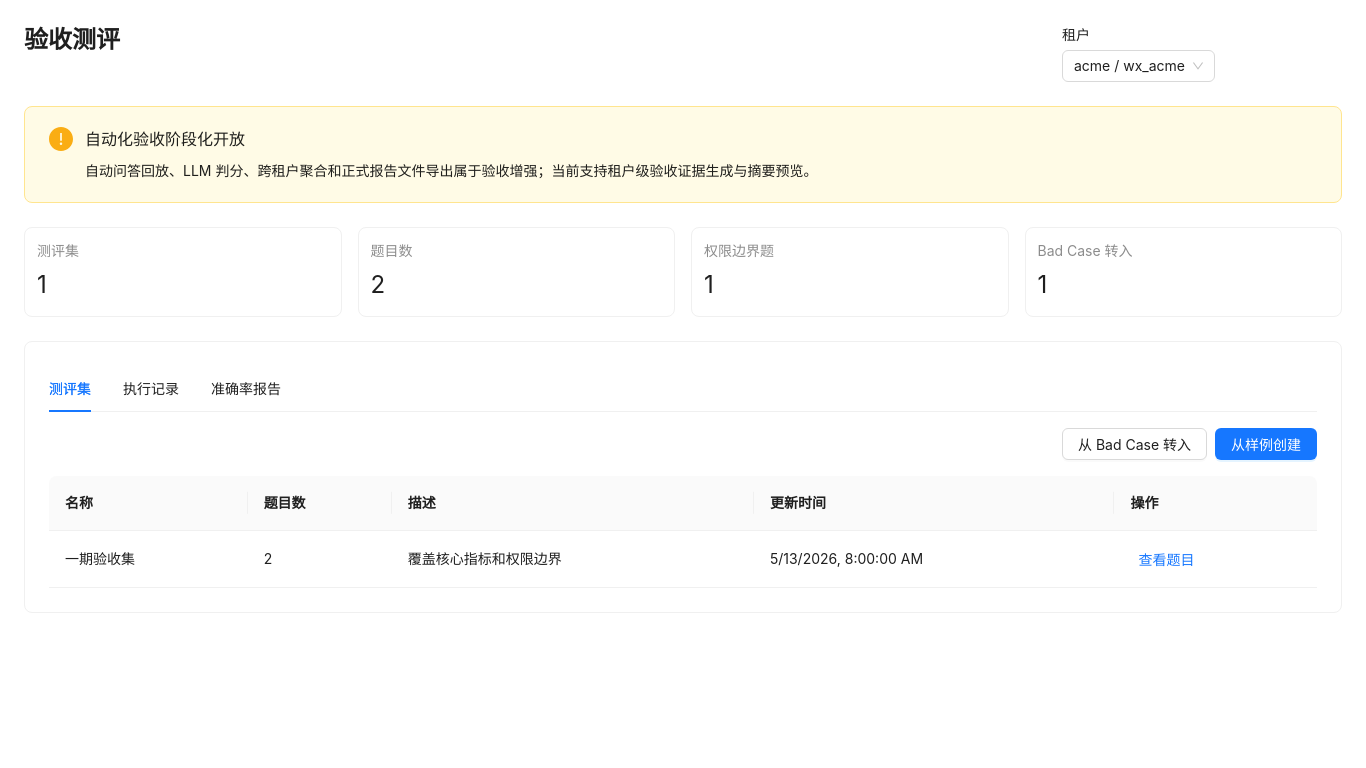
EvaluationPage › loads and renders accuracy report
The width and height of the screenshot is (1366, 768).
What coordinates should you click on to do the following:
click the tab "准确率报告"
I would click on:
 (246, 389)
Its box is [211,378,281,400].
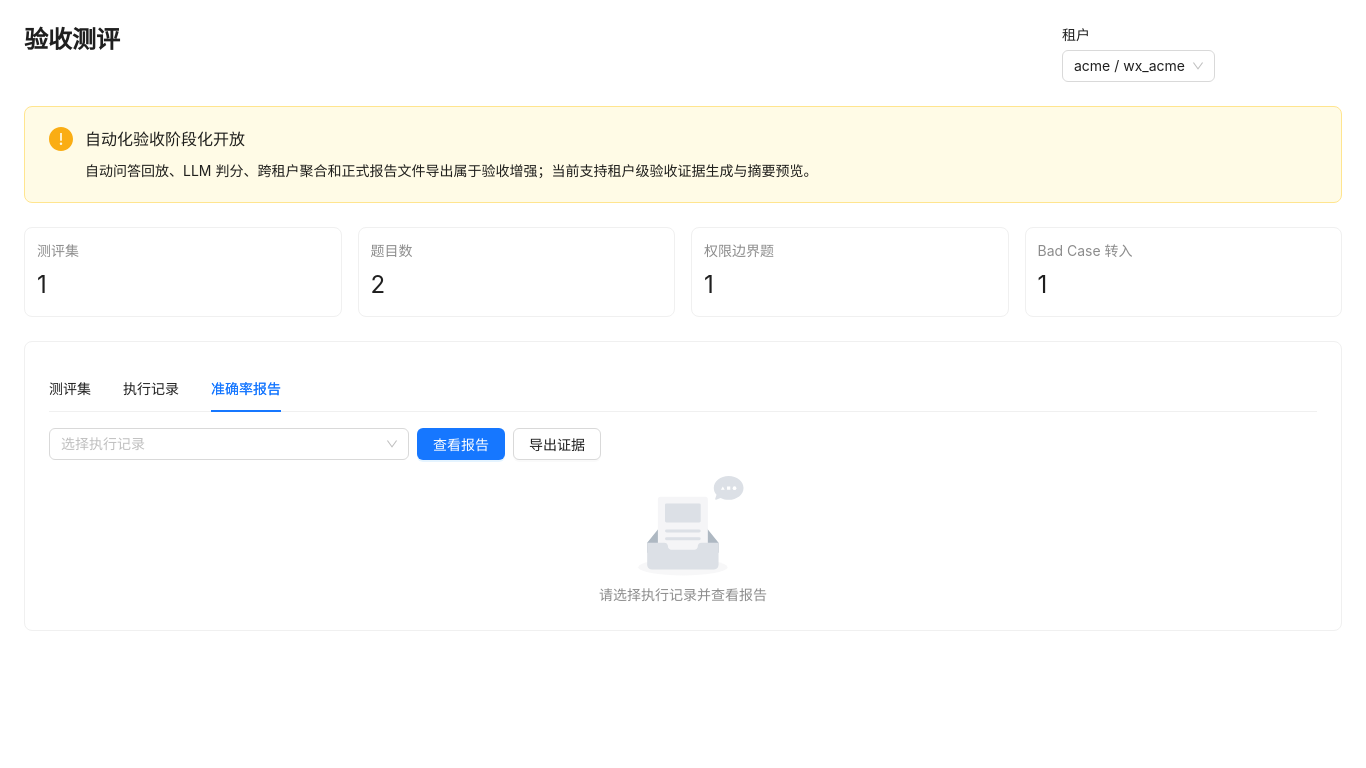
What coordinates should you click on to do the following:
click the dropdown labelled "执行记录"
I would click on:
 (103, 443)
Its box is [61,435,145,452].
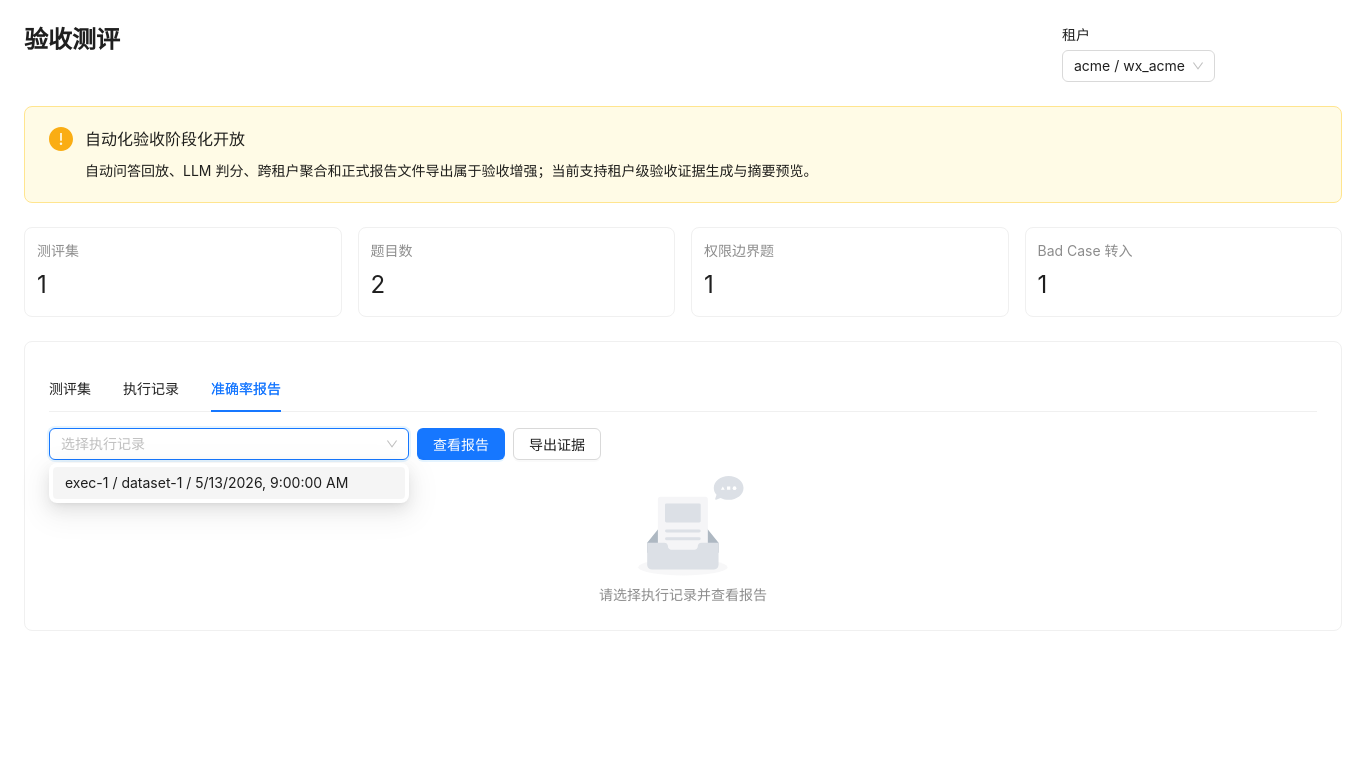
What coordinates should you click on to do the following:
click the text "exec-1 / dataset-1 / 5/13/2026, 9:00:00 AM"
I would click on:
 (229, 483)
Its box is [65,472,393,494].
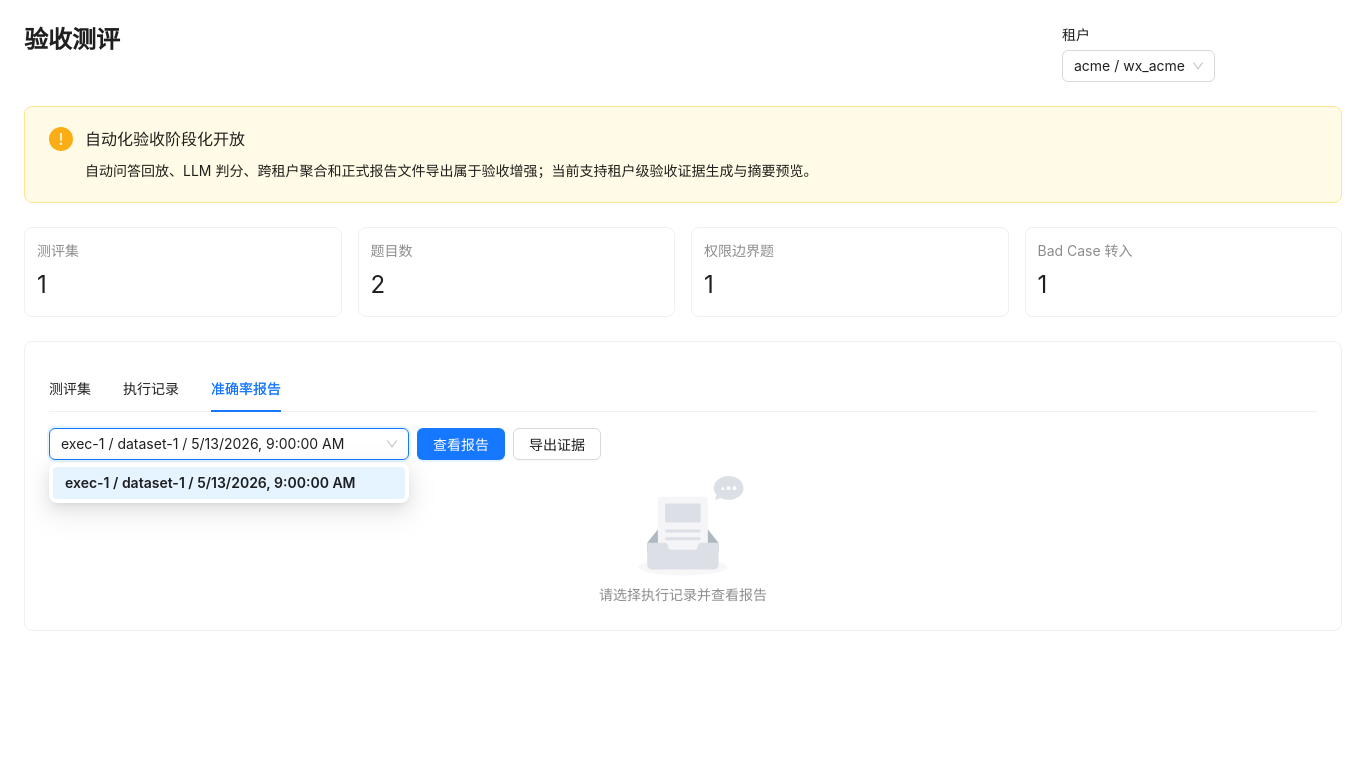
What coordinates should you click on to do the following:
click the button "查看报告"
I would click on:
 (461, 444)
Its box is [417,428,505,460].
(page scrolled)
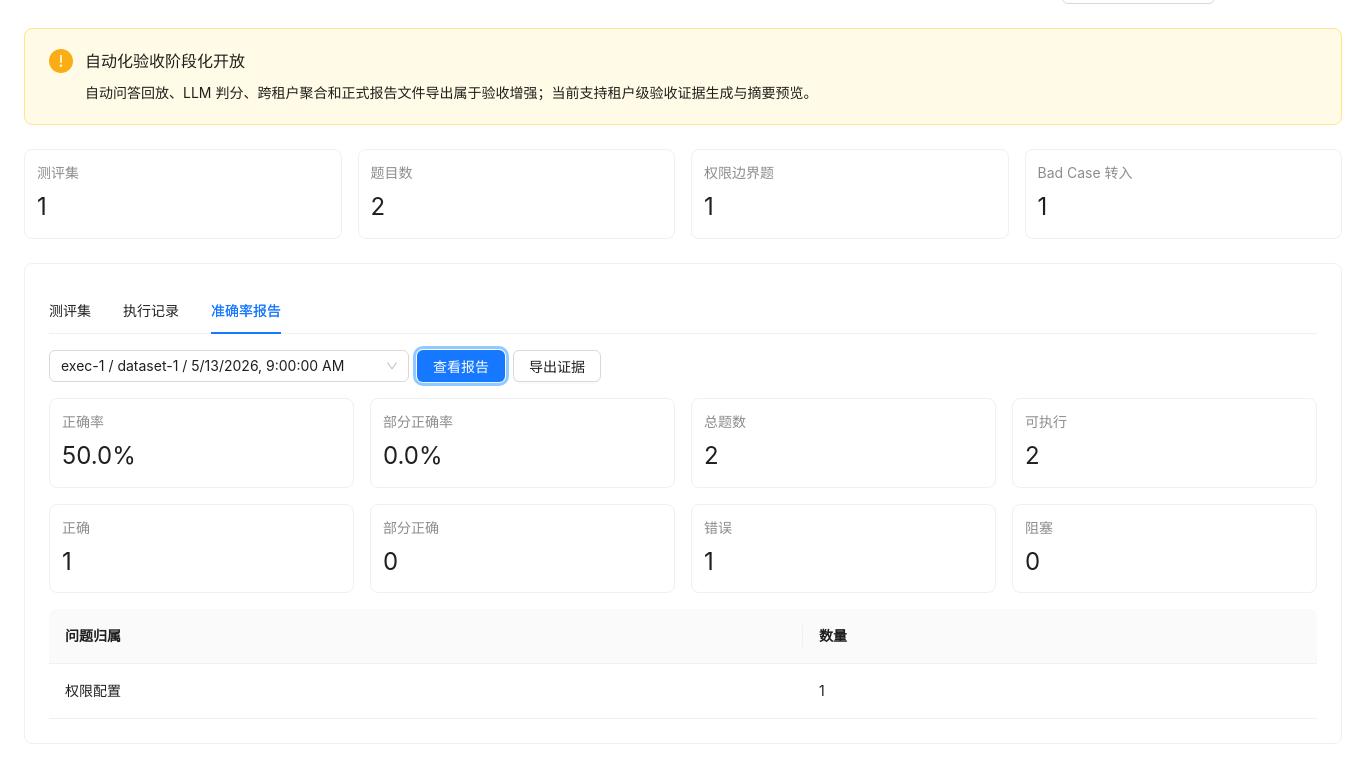
Expected: the text "正确率" is shown, [62,413,104,430]
Expected: the text "50.0%" is shown, [62,437,136,474]
Expected: the text "权限配置" is shown, [49,664,803,719]
